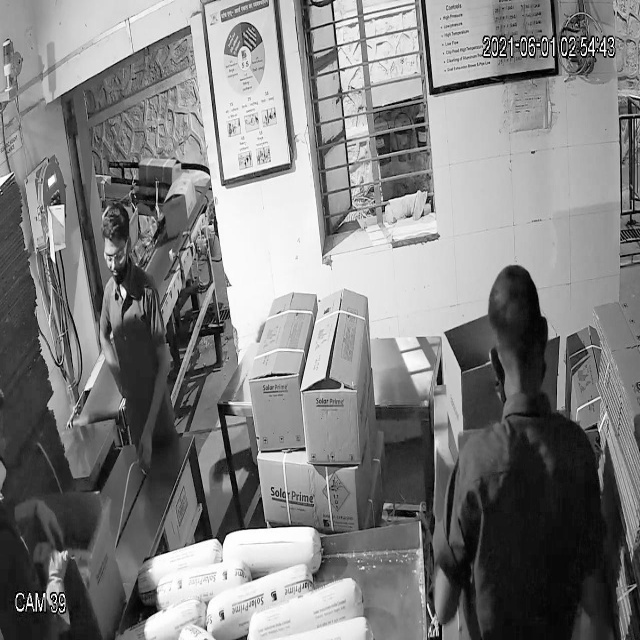Gafas: (97, 240, 136, 271)
